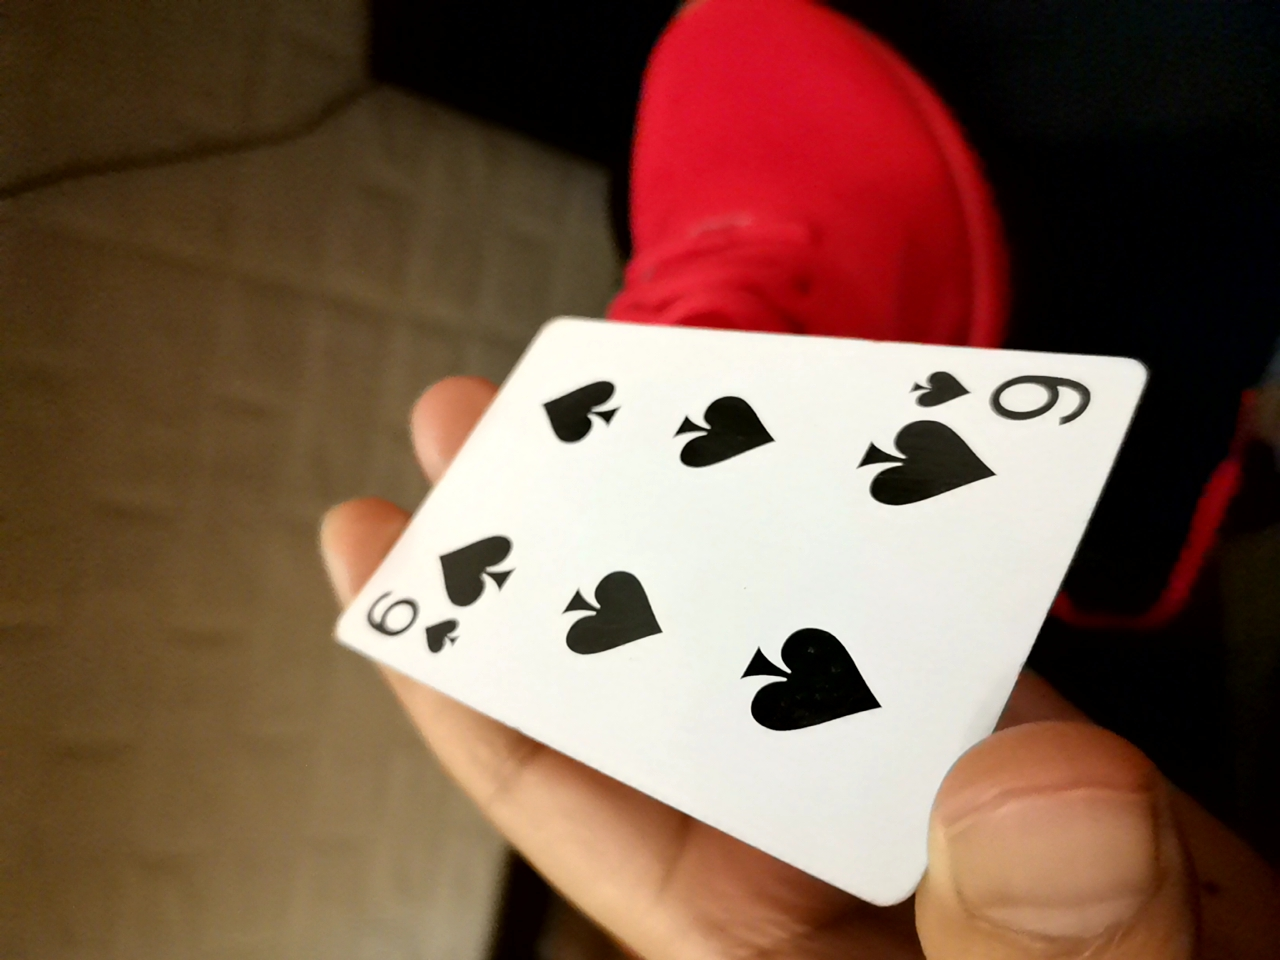ht 6: (312, 313, 1151, 902)
